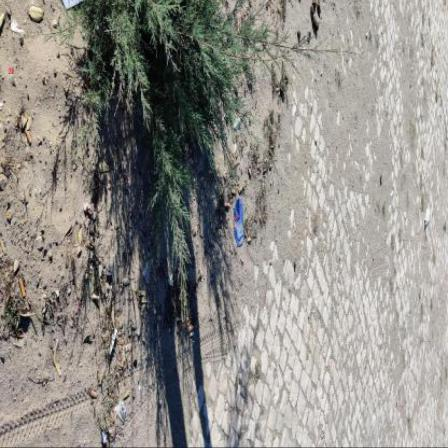Can: (235, 198, 246, 248)
Cigarette: (20, 278, 27, 298), (122, 345, 126, 368), (26, 132, 32, 146), (90, 391, 98, 401), (170, 275, 175, 289), (128, 344, 134, 354), (233, 148, 237, 159), (189, 327, 195, 333), (169, 276, 173, 285), (239, 188, 243, 195), (191, 332, 195, 338), (226, 204, 231, 208), (272, 165, 274, 170)
Paper: (426, 210, 432, 240)
Plastic bag - wrapper: (103, 434, 108, 445)
Unlabeled litter: (12, 16, 28, 34), (111, 329, 119, 357), (116, 403, 127, 422), (86, 204, 98, 220), (413, 160, 415, 166)
